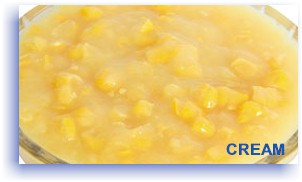corn: (20, 6, 298, 164)
